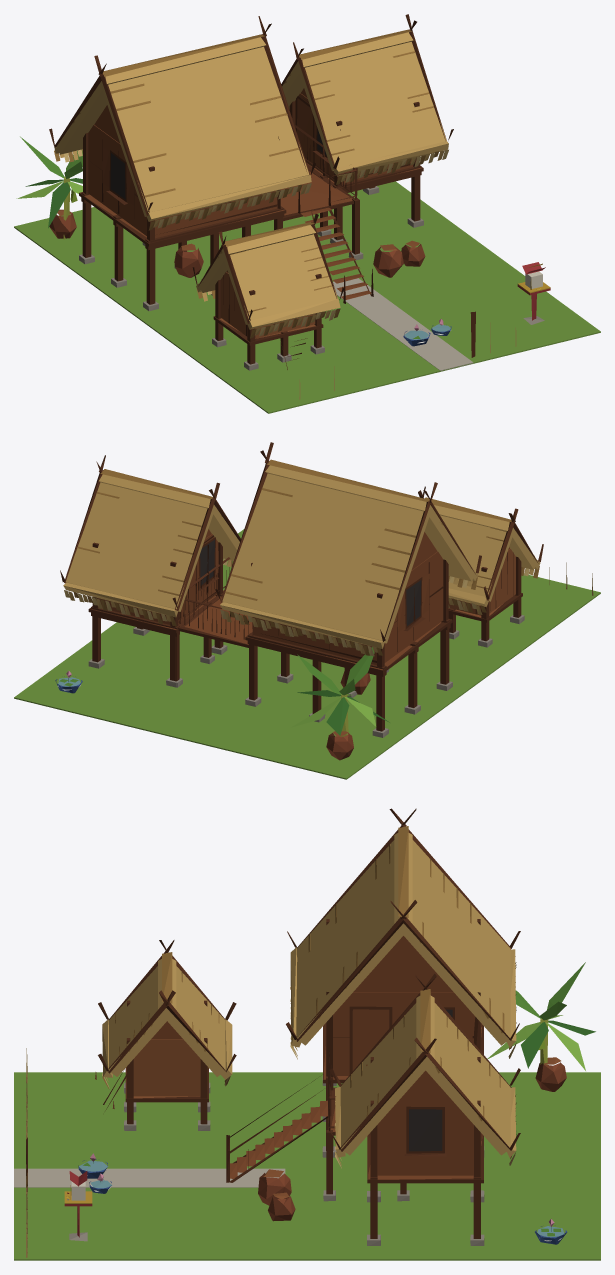
File: house12_2.glb
3 renders of one model, top to bottom at view 1: azimuth 30°, elevation 25°; view 2: azimuth 150°, elevation 25°; view 3: azimuth 270°, elevation 25°, orthographic. The views are drawn at different scales.
Visible parts, largest first — view 1: body, windows; view 2: body, windows; view 3: body, windows.
Part boxes in pixels (x1,y1,x2,y2): body: (14,14,600,413); windows: (110,129,326,199); body: (14,442,600,779); windows: (200,539,421,625); body: (14,808,600,1260); windows: (409,1009,452,1151).
Bounding box in the file's own units: 12.5 × 7.98 × 15.9.
